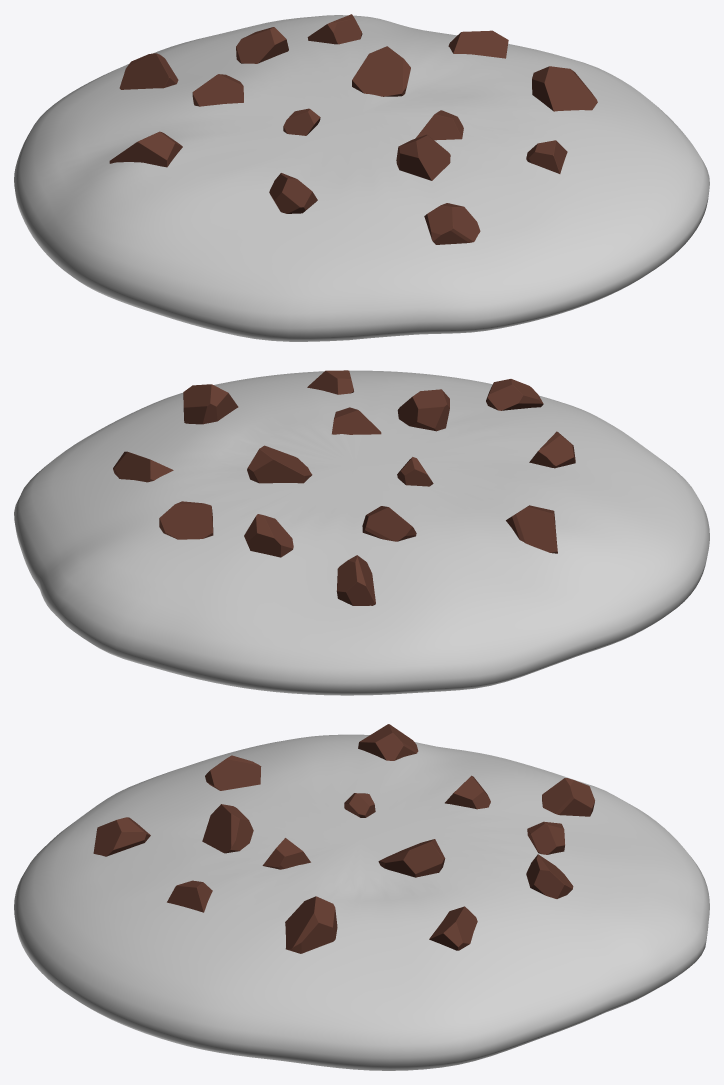
The model's file is cokkie.fbx.
3 views of the same model, one above another, from view 1: azimuth 30°, elevation 25°; view 2: azimuth 150°, elevation 25°; view 3: azimuth 270°, elevation 25° (orthographic).
Parts seen in each view (by area): view 1: char_eattool_sunshake.001; view 2: char_eattool_sunshake.001; view 3: char_eattool_sunshake.001.
Part boxes in pixels (bbox=[...]): char_eattool_sunshake.001: bbox=[14, 14, 709, 341]; char_eattool_sunshake.001: bbox=[14, 370, 709, 695]; char_eattool_sunshake.001: bbox=[14, 724, 709, 1070].
Bounding box in the file's own units: 0.8111 × 0.1635 × 0.81.
